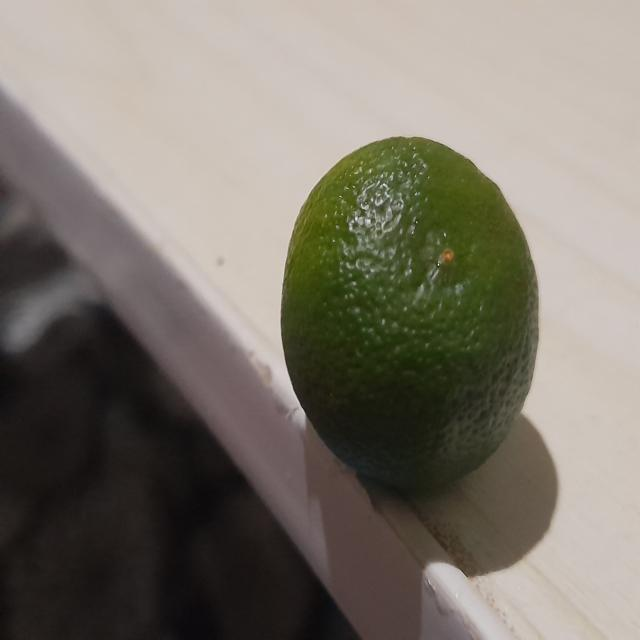heathy: (272, 130, 540, 501)
